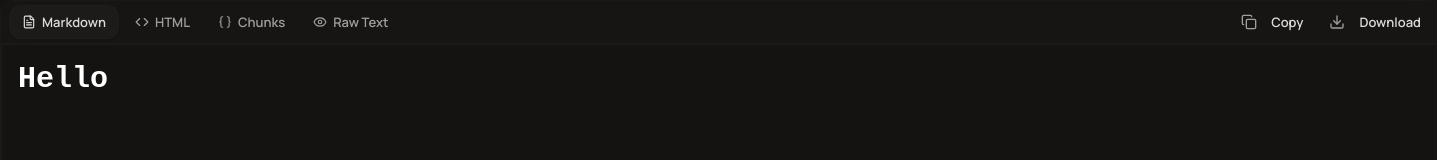
Test: OutputViewer component › shows backend-provided formats even when filename is not marker multi-format supported
The width and height of the screenshot is (1437, 160).
Expected: the button "HTML" is shown, [123,5,202,39]
Click the button "Chunks": (252, 22) [206,5,297,39]
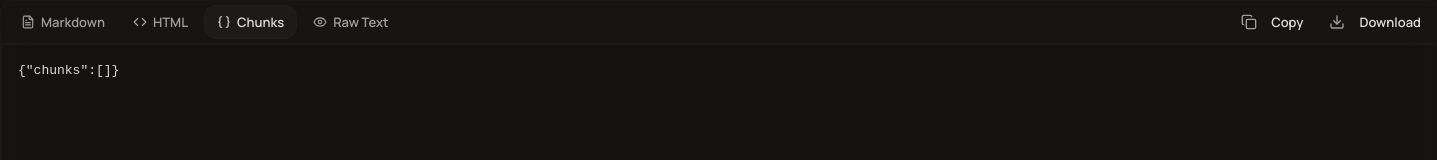
Result: the text "{\"chunks\":[]}" is shown at [18,63,119,78]
